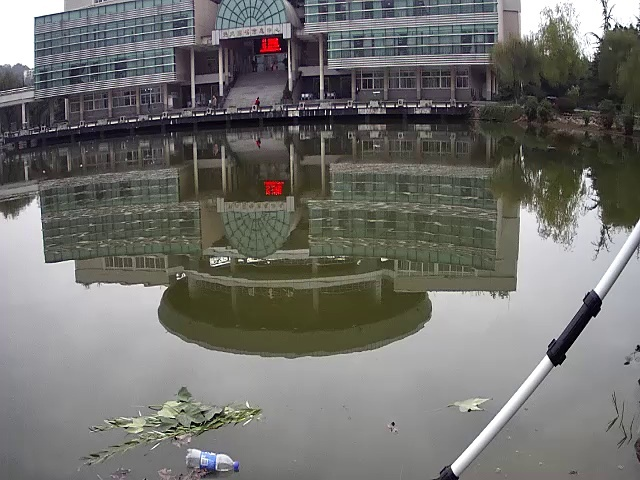bottle: (178, 443, 244, 476)
leaf: (83, 386, 267, 449), (441, 388, 491, 415)
